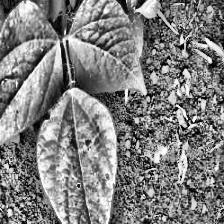ALS: (36, 86, 121, 224), (68, 0, 141, 106)
